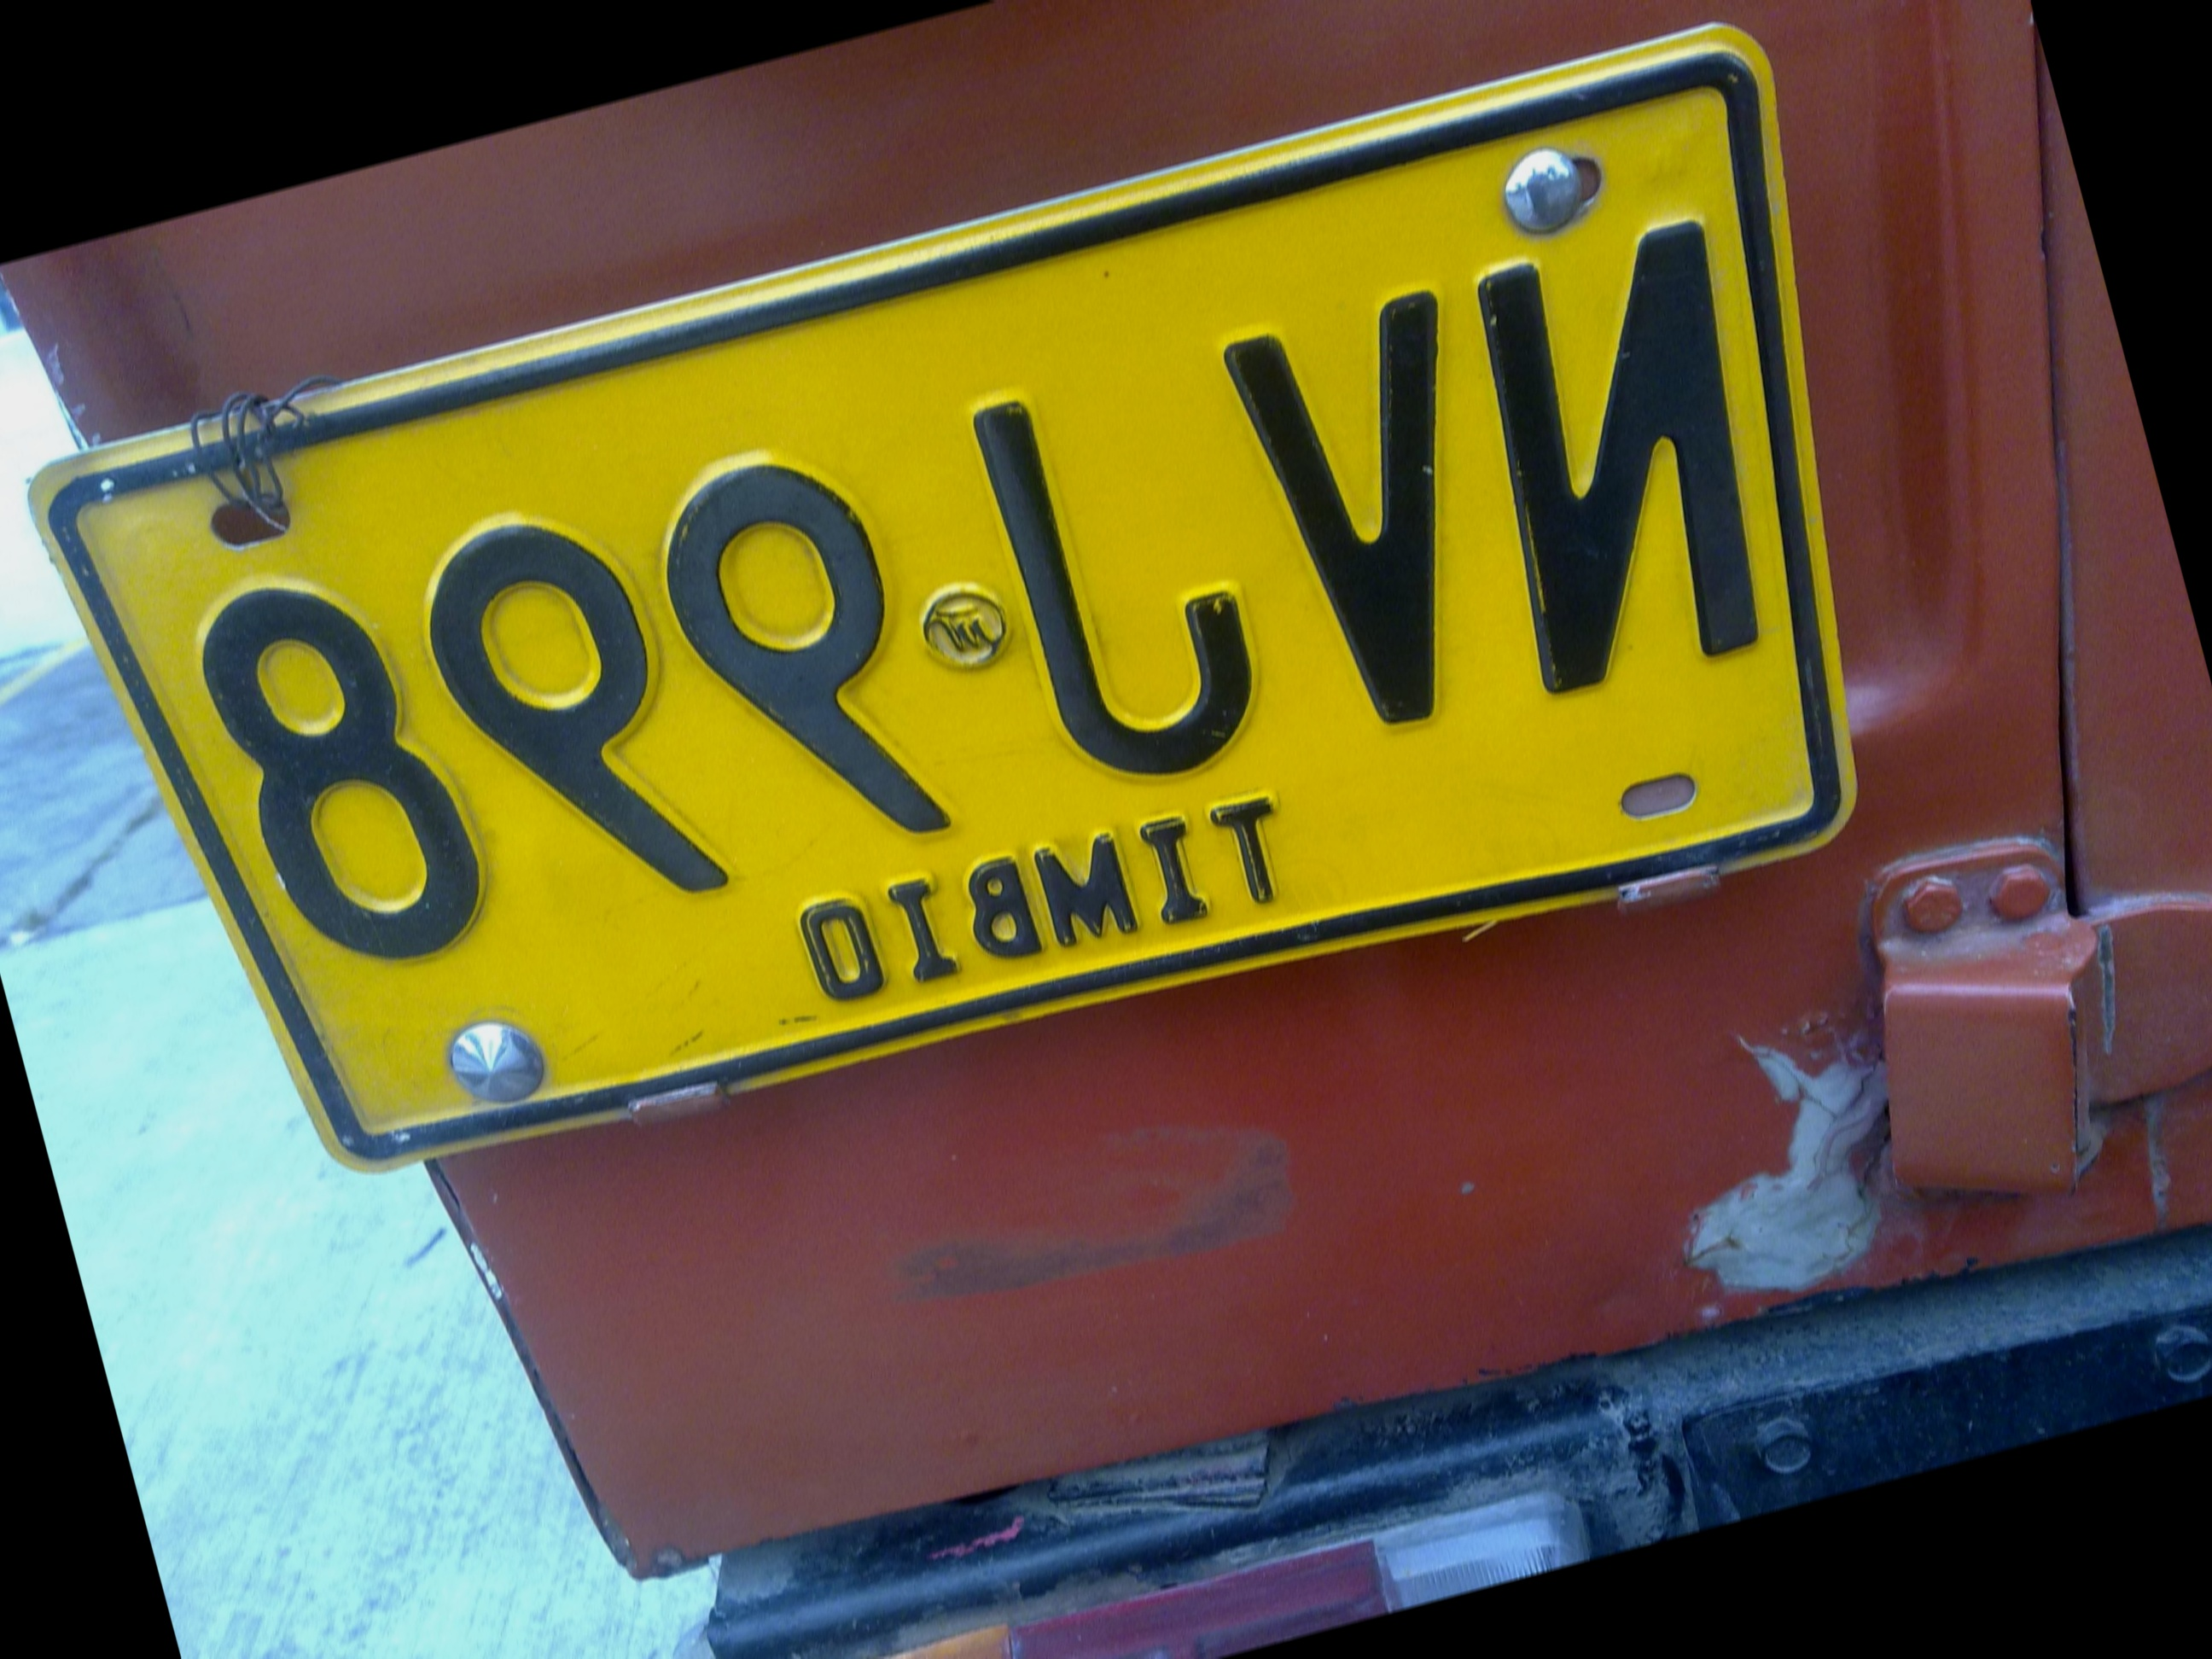placas: (6, 0, 1978, 1280)
